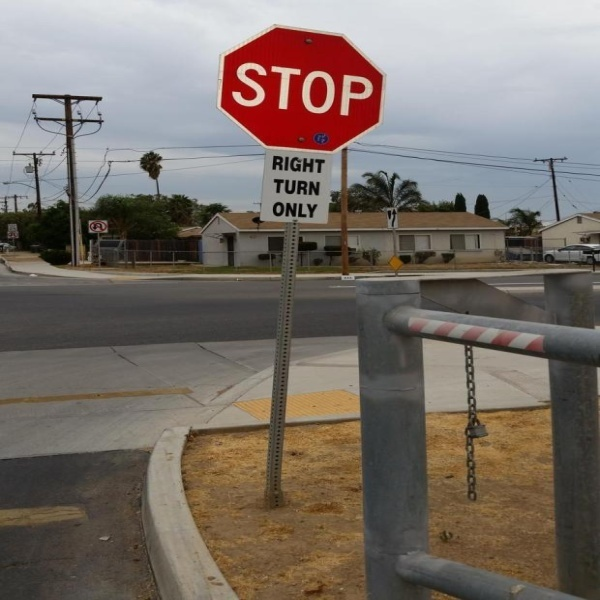stop: (218, 19, 386, 152)
